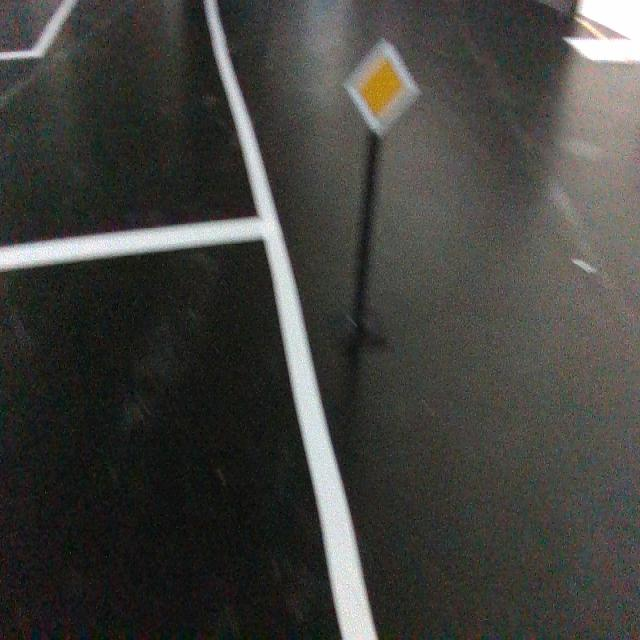priority-sign: (340, 36, 423, 140)
